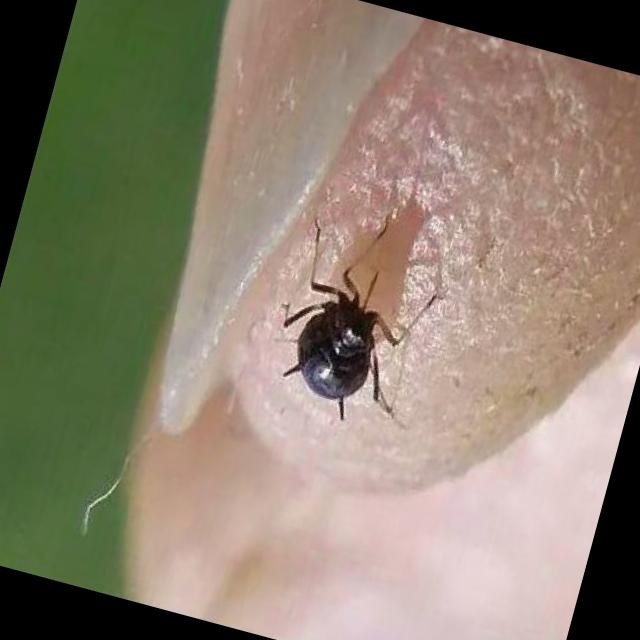aphid: (256, 242, 412, 438)
